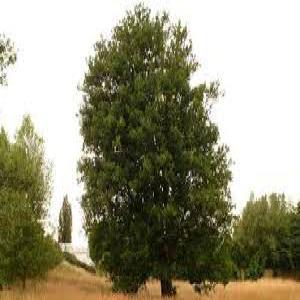Tree: (76, 0, 234, 293)
